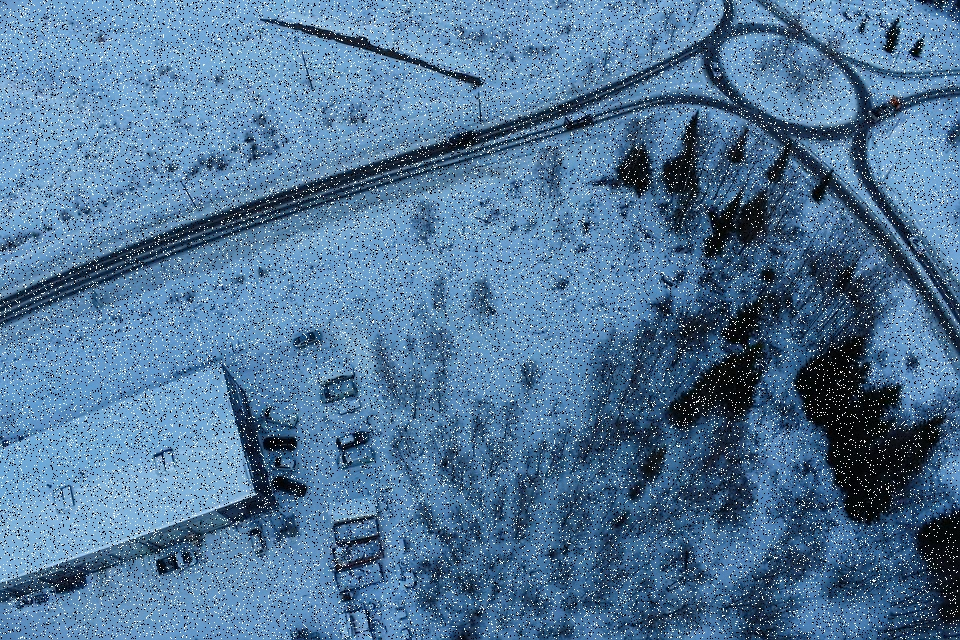roundabout: (669, 0, 896, 160)
